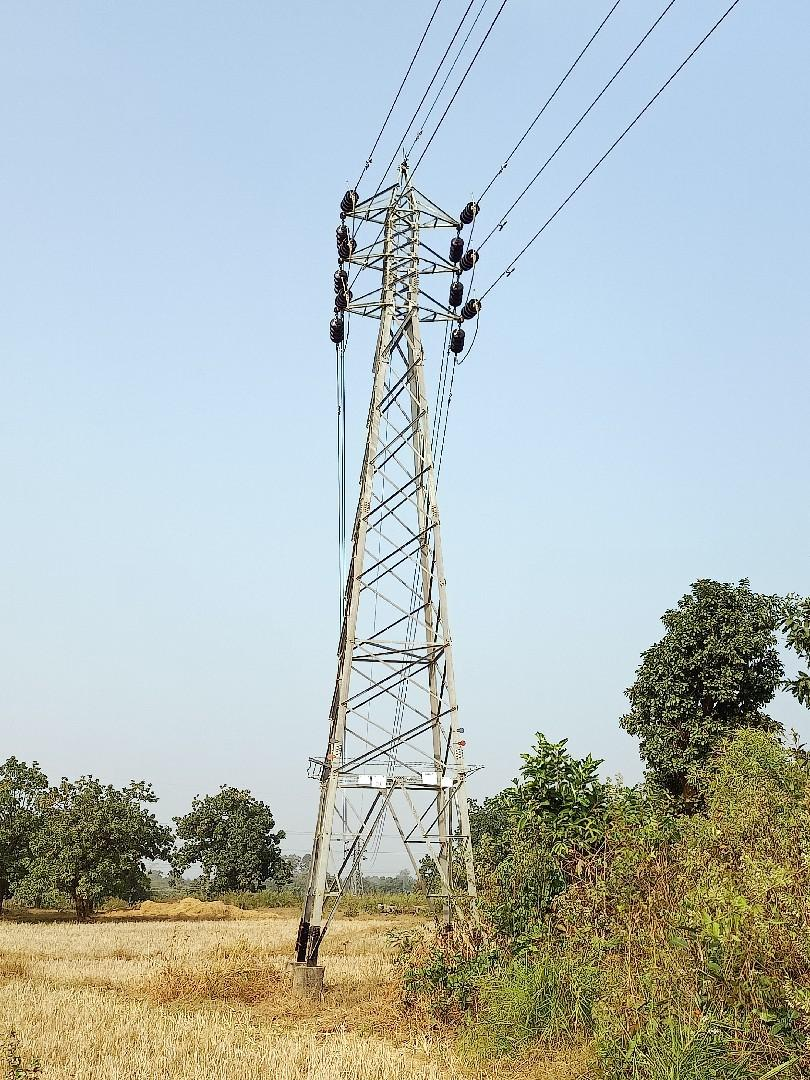GSM Antenna: (298, 157, 489, 891)
